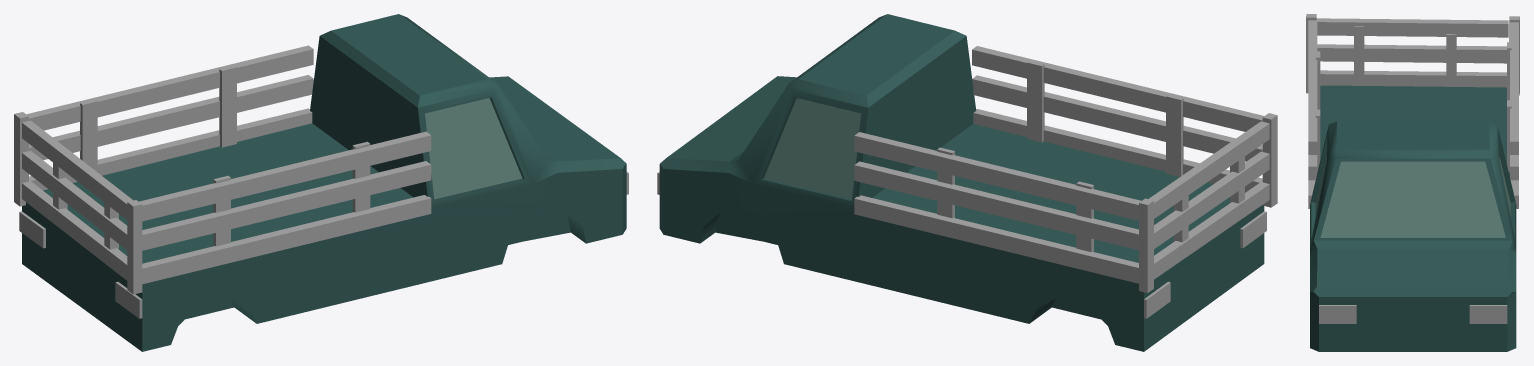
The model's file is caminhao.fbx.
3 views of the same model, side by side, from view 1: azimuth 30°, elevation 25°; view 2: azimuth 150°, elevation 25°; view 3: azimuth 270°, elevation 25° (orthographic). The views are drawn at different scales.
Parts seen in each view (by area): view 1: pCube1, polySurface24, polySurface14; view 2: pCube1, polySurface24, polySurface14; view 3: pCube1, polySurface14, polySurface24.
Boxes of the visible parts, x1=… form: pCube1: x1=19, y1=14, x2=628, y2=351; polySurface24: x1=14, y1=45, x2=431, y2=294; polySurface14: x1=22, y1=120, x2=133, y2=280; pCube1: x1=657, y1=14, x2=1266, y2=351; polySurface24: x1=854, y1=46, x2=1277, y2=292; polySurface14: x1=1148, y1=121, x2=1269, y2=279; pCube1: x1=1310, y1=85, x2=1516, y2=351; polySurface14: x1=1316, y1=18, x2=1508, y2=87; polySurface24: x1=1306, y1=14, x2=1519, y2=208.
Size of the model in its own units: 14.49 by 4.77 by 6.22.
